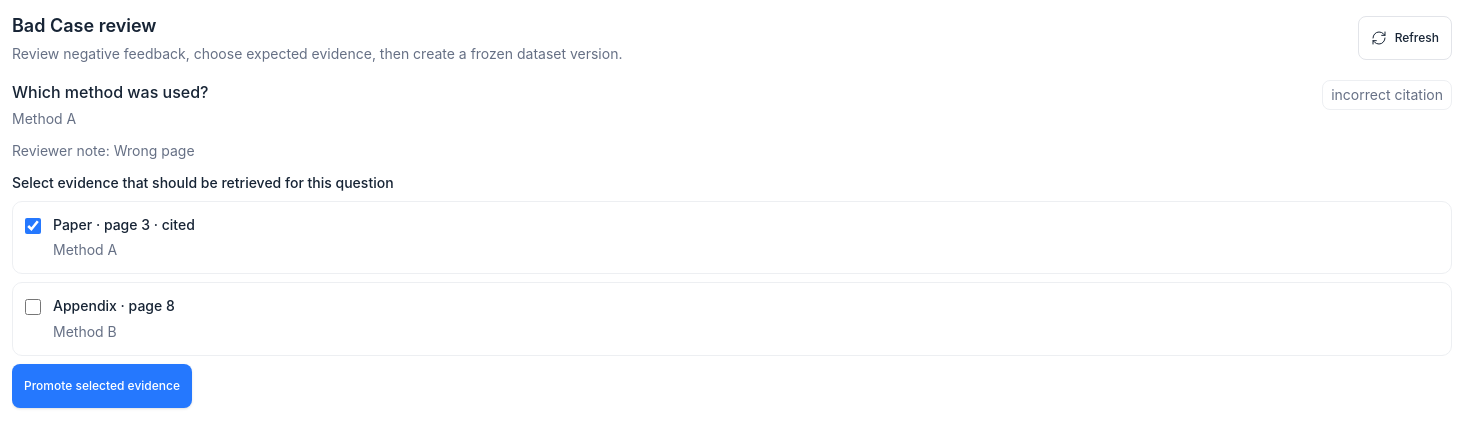
developer feedback review › loads negative feedback and promotes only the selected retrieved evidence
Click the checkbox labelled "Paper · page 3 · cited Method A" at x=33, y=226, box [25,218,41,234]
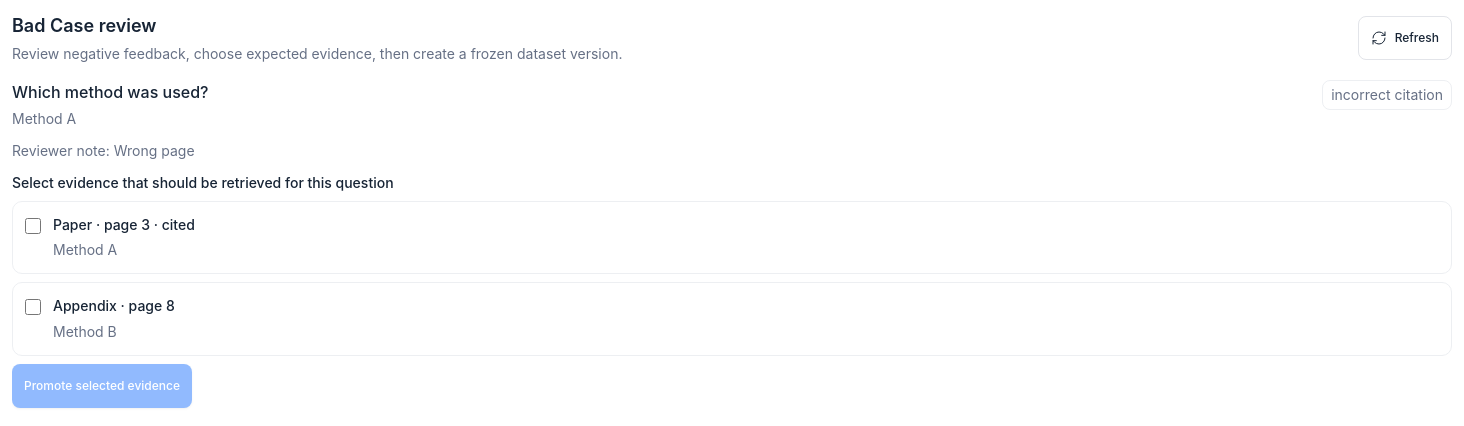
Check: the button "Promote selected evidence" is disabled, box [12,364,192,408]
Click the checkbox labelled "Appendix · page 8 Method B" at x=33, y=307, box [25,299,41,315]
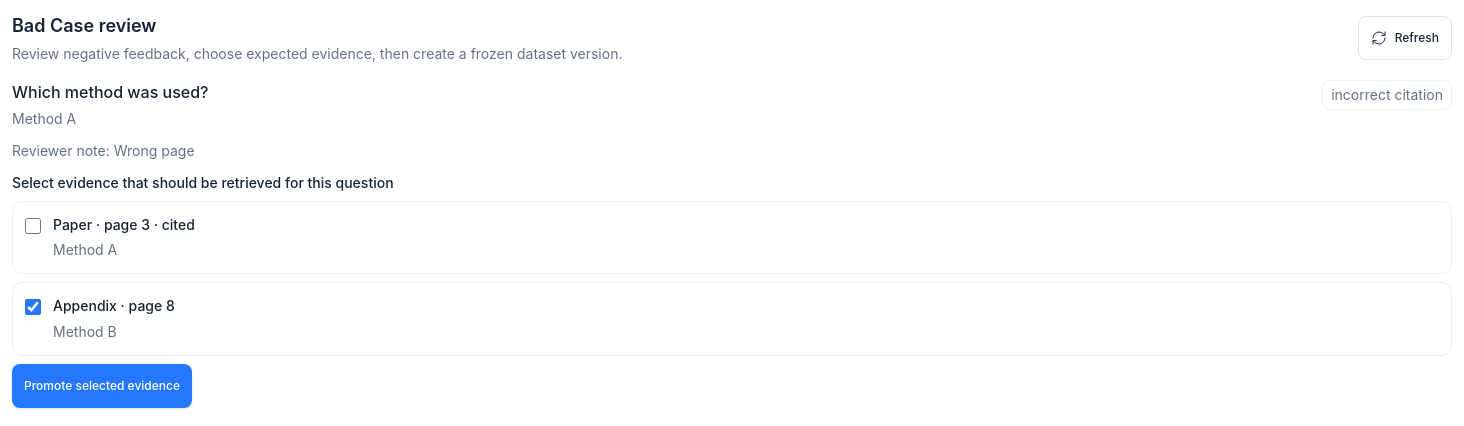
Click the button "Promote selected evidence" at x=102, y=386, box [12,364,192,408]
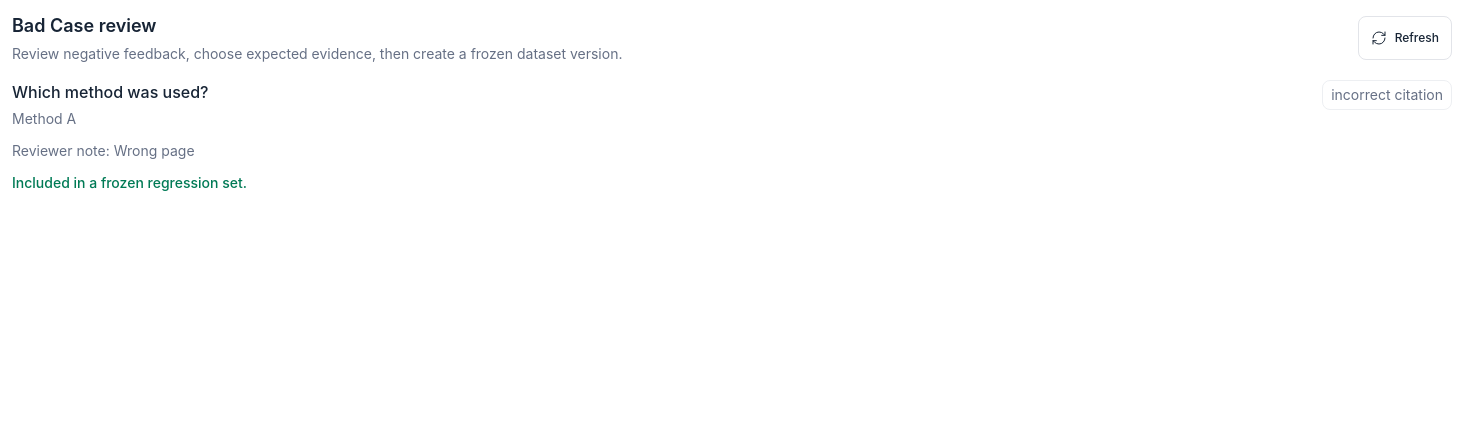
Check: the text "Included in a frozen regression set" is shown, box [12,174,247,191]
